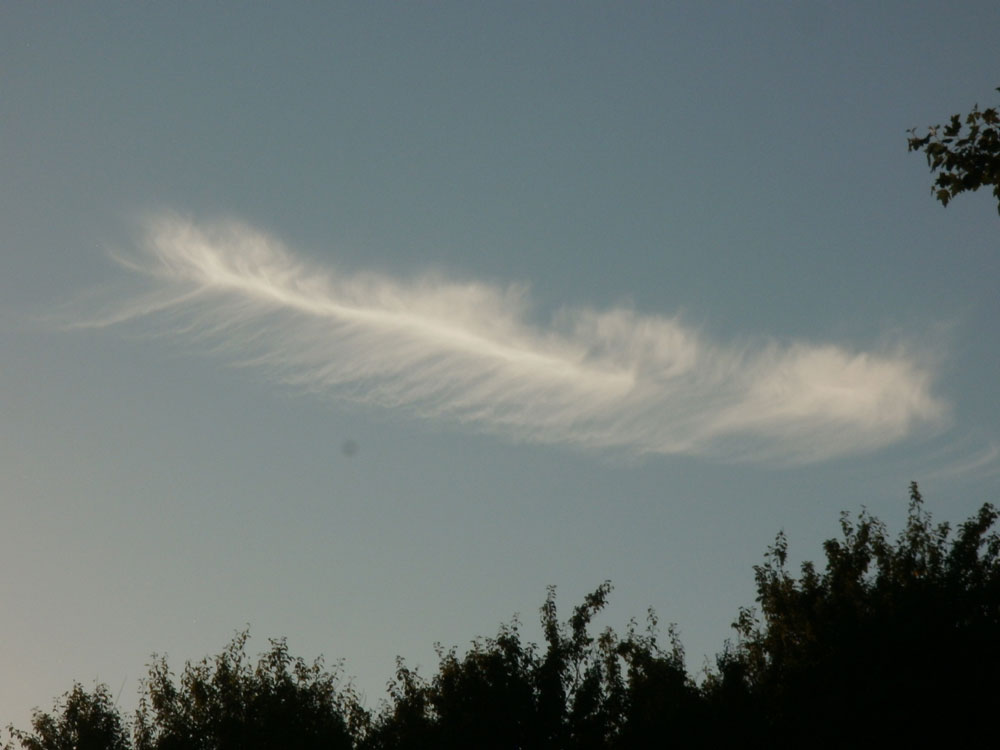Cirrus: (73, 163, 930, 489)
